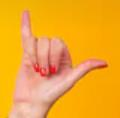clockwise: (13, 8, 112, 103)
